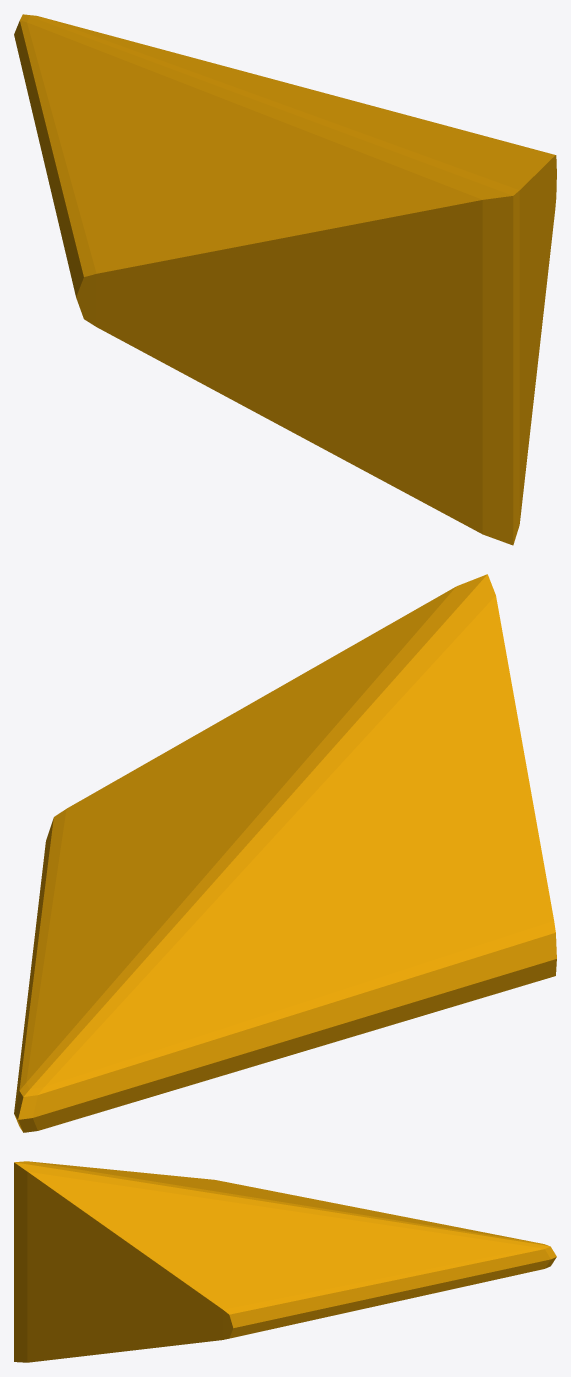
File: StarPiece.FBX
3 renders of one model, top to bottom at view 1: azimuth 30°, elevation 25°; view 2: azimuth 150°, elevation 25°; view 3: azimuth 270°, elevation 25°, orthographic. The views are drawn at different scales.
Visible parts, largest first — view 1: StarPiece001; view 2: StarPiece001; view 3: StarPiece001.
Boxes of the visible parts, <box> form: StarPiece001: <box>14,14,556,545</box>; StarPiece001: <box>14,574,556,1132</box>; StarPiece001: <box>14,1161,556,1362</box>.
Size of the model in its own units: 38.61 by 26.45 by 65.16.
